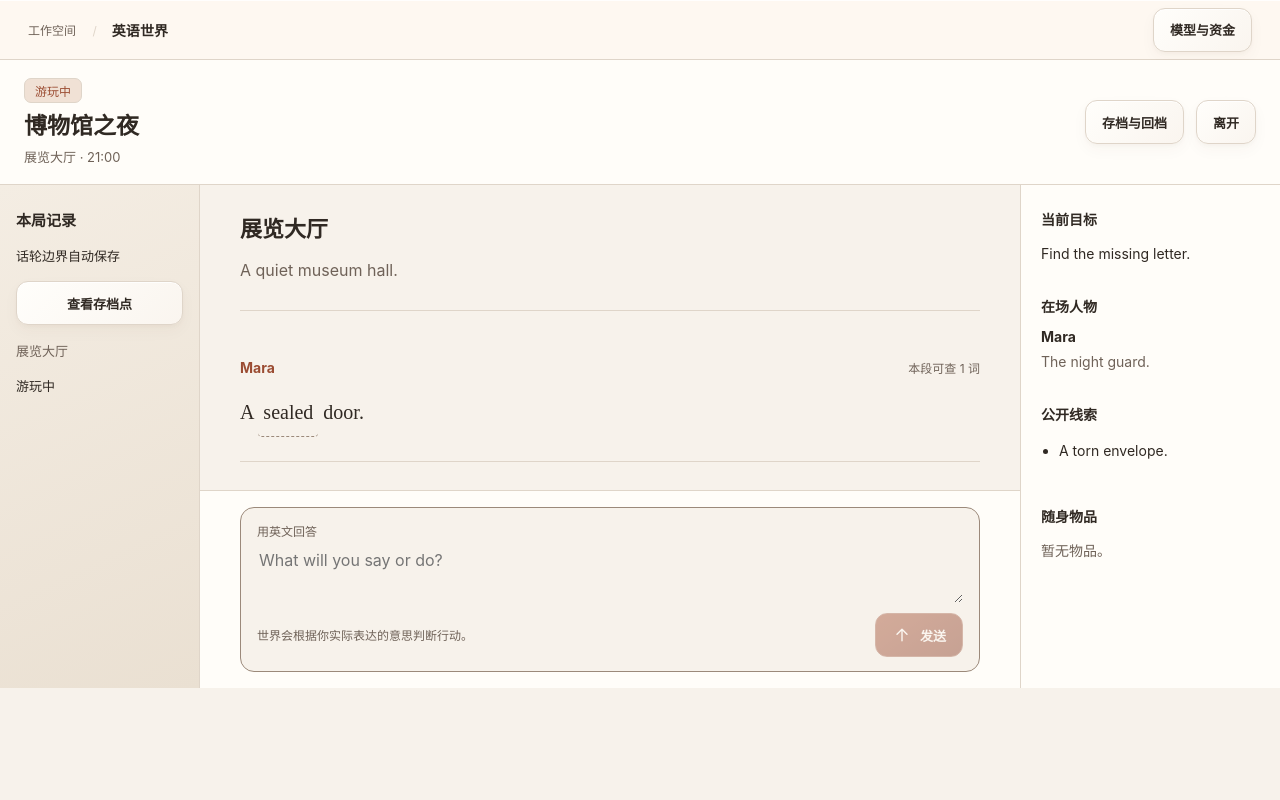
Test: confirms a server token before lookup and retains its one-word choice
Click the button with aria-label "翻译 sealed".
click(288, 412)  # box [258, 388, 318, 437]
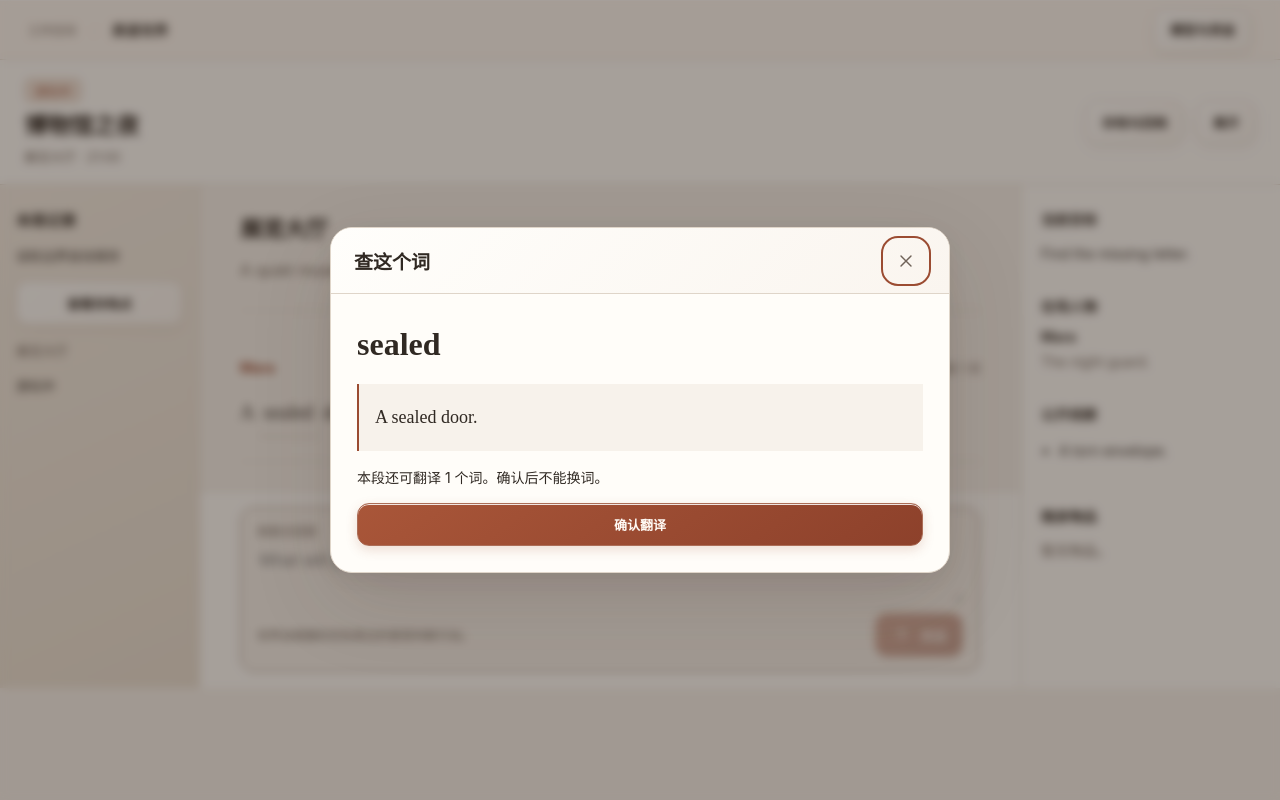
Check: the text "本段还可翻译 1 个词。确认后不能换词。" is shown, box [357, 469, 609, 486]
Click the button "确认翻译".
click(640, 524)  # box [357, 503, 923, 546]
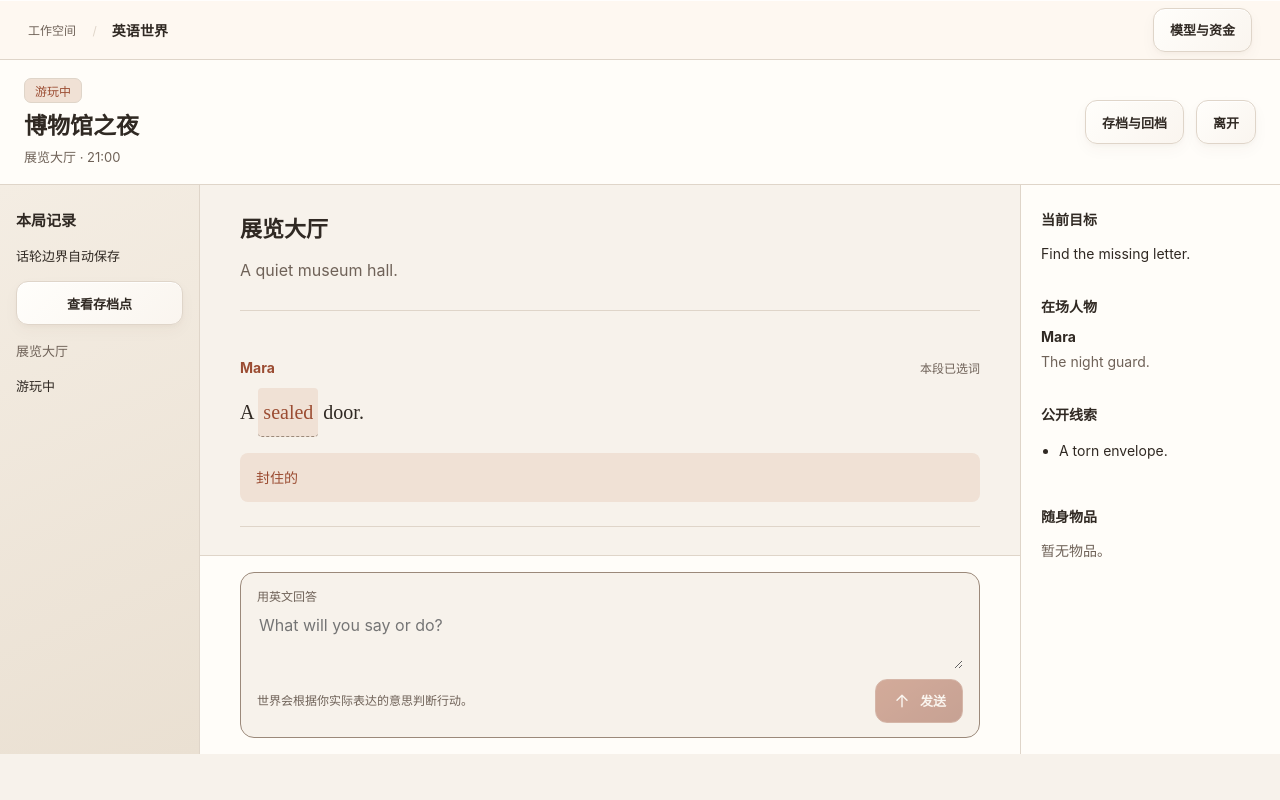
Check: the text "封住的" is shown, box [240, 453, 980, 502]
